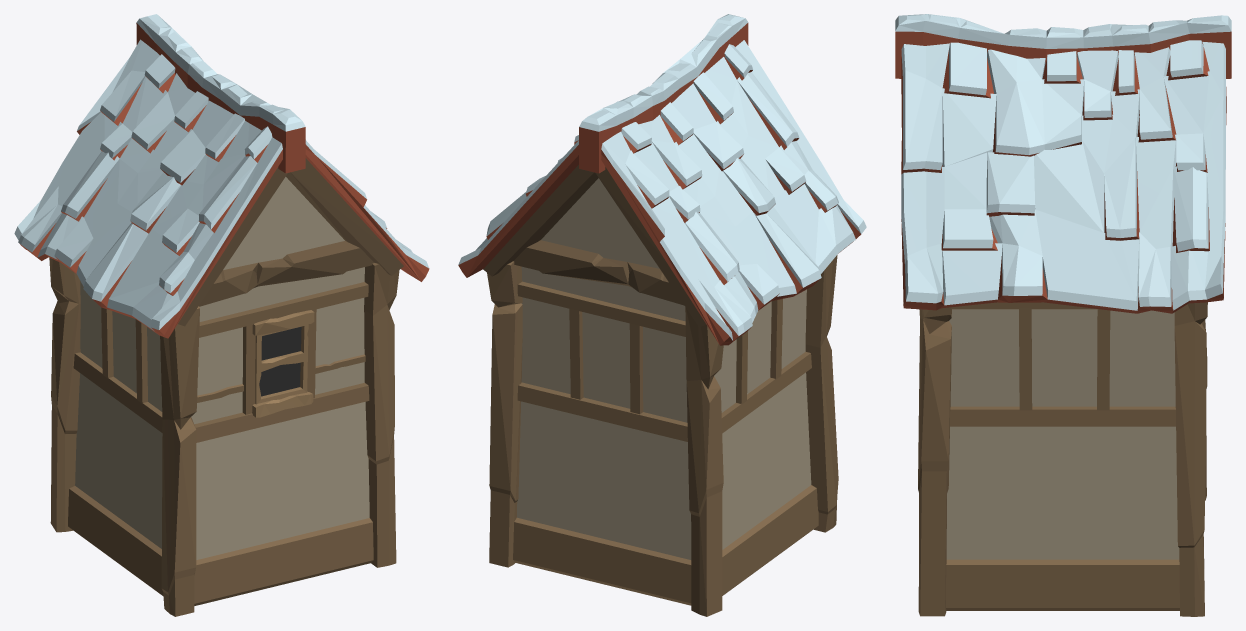
The model's file is SM_Bld_House_RoomTall_05_Snow.gltf.
3 renders of one model, left to right at view 1: azimuth 30°, elevation 25°; view 2: azimuth 150°, elevation 25°; view 3: azimuth 270°, elevation 25°, orthographic. The views are drawn at different scales.
Parts seen in each view (by area): view 1: SM_Bld_House_RoomTall_05_Snow; view 2: SM_Bld_House_RoomTall_05_Snow; view 3: SM_Bld_House_RoomTall_05_Snow.
Boxes of the visible parts, left/top/right/bottom form: SM_Bld_House_RoomTall_05_Snow: left=14, top=14, right=429, bottom=616; SM_Bld_House_RoomTall_05_Snow: left=458, top=14, right=866, bottom=616; SM_Bld_House_RoomTall_05_Snow: left=895, top=14, right=1231, bottom=616.
Bounding box in the file's own units: 3.6 × 5.75 × 3.26.
Materials: 1 (1 with a texture image).
